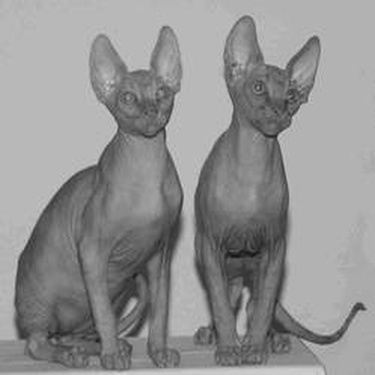cat: (13, 19, 187, 365), (186, 12, 347, 351)
